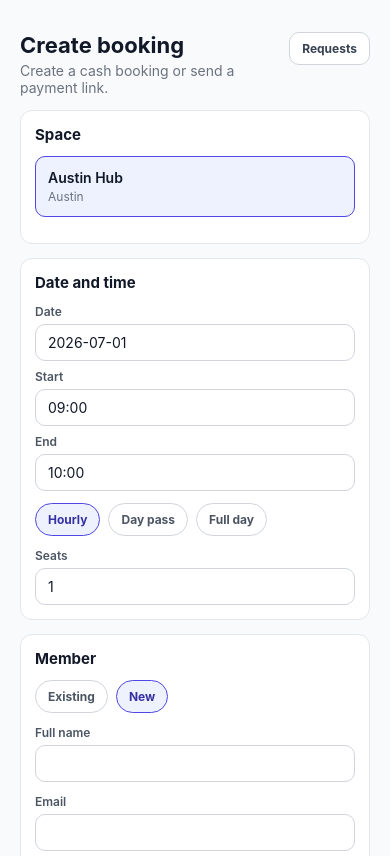
Scenario: OwnerCreateBookingScreen › creates a cash booking for a new member
Expected: the text "Austin Hub" is shown, x1=48 y1=169 x2=123 y2=186
Replace the text in the field named "Date" with "2026-07-15" at [195, 342], box x1=35 y1=324 x2=355 y2=361
(page scrolled)
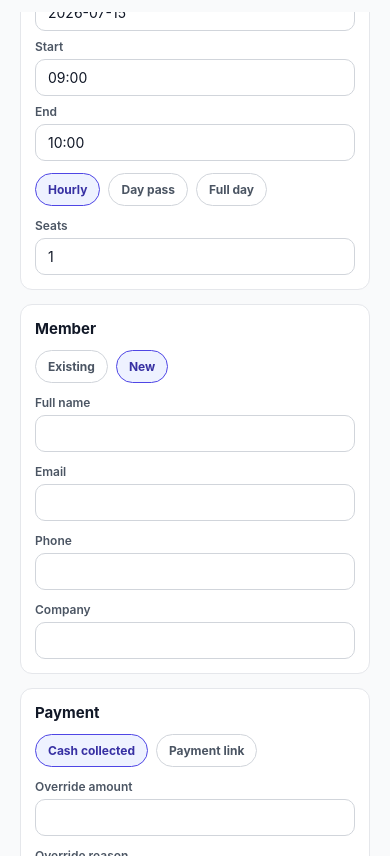
Type "Walk In" into the field named "Full name" at [195, 434], box x1=35 y1=415 x2=355 y2=452
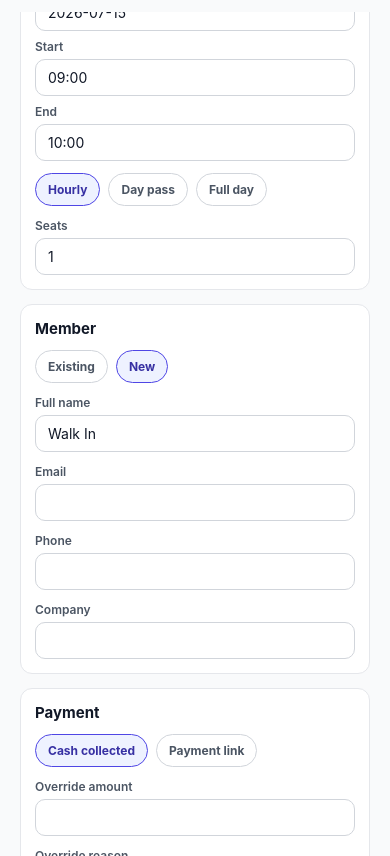
Type "walkin@example.com" into the field named "Email" at [195, 502], box x1=35 y1=484 x2=355 y2=521
(page scrolled)
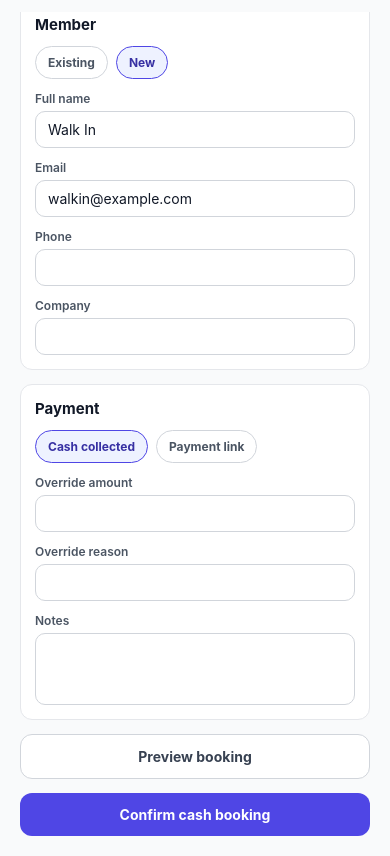
Click the text "Confirm cash booking" at [195, 814], box x1=120 y1=806 x2=270 y2=823
(page scrolled)
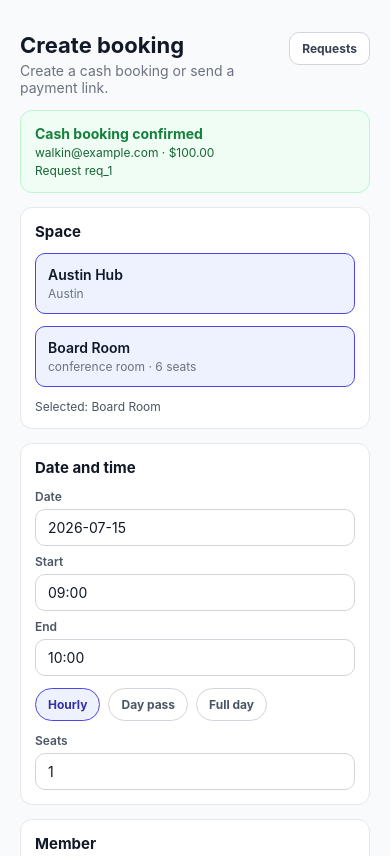
Result: the text "Cash booking confirmed" is shown at x1=35 y1=125 x2=203 y2=142
